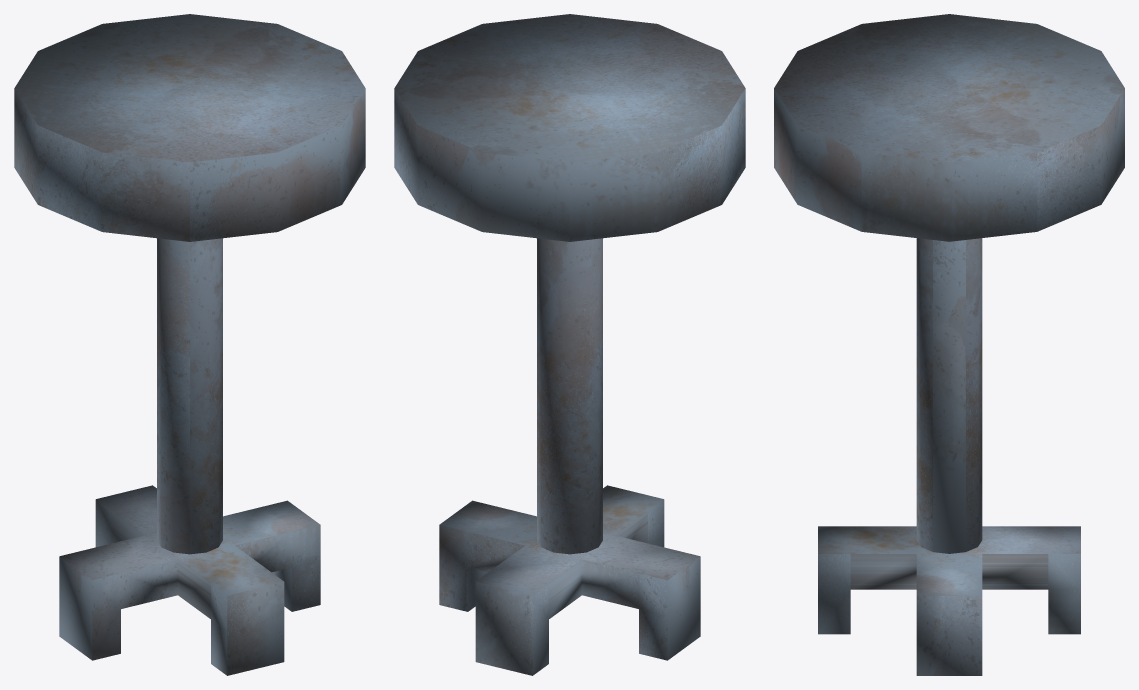
File: seat.glb
The picture shows the model from 3 angles, left to right: view 1: azimuth 30°, elevation 25°; view 2: azimuth 150°, elevation 25°; view 3: azimuth 270°, elevation 25°; orthographic projection.
Parts seen in each view (by area): view 1: seat-col; view 2: seat-col; view 3: seat-col.
Boxes of the visible parts, left/top/right/bottom form: seat-col: left=14, top=14, right=365, bottom=675; seat-col: left=394, top=14, right=745, bottom=675; seat-col: left=774, top=14, right=1124, bottom=675.
Bounding box in the file's own units: 0.8 × 1.34 × 0.8.
Materials: 1 (1 with a texture image).
